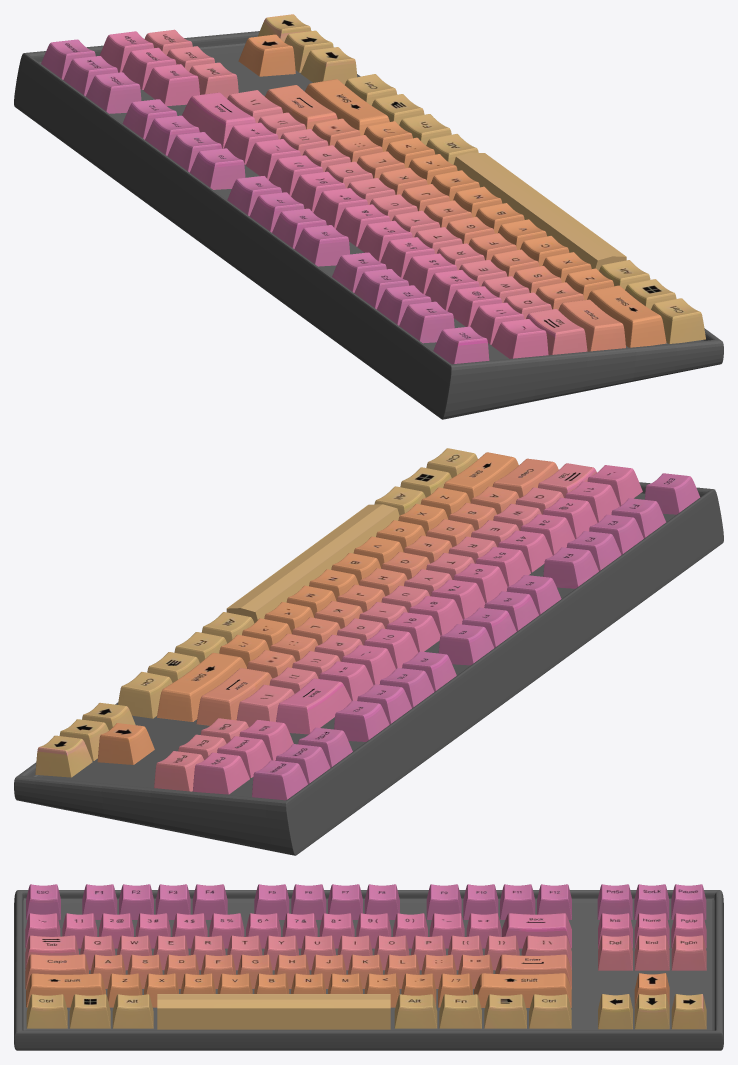
Rendered from tkl_keyboard_yellow_purple_grad-transformed.glb.
The picture shows the model from 3 angles, top to bottom: view 1: azimuth 30°, elevation 25°; view 2: azimuth 150°, elevation 25°; view 3: azimuth 270°, elevation 25°; orthographic projection. The views are drawn at different scales.
Visible parts, largest first — view 1: Keyboard Body; view 2: Keyboard Body; view 3: Keyboard Body.
Part boxes in pixels (box(x1,y1,x2,y2)): Keyboard Body: box(14, 14, 723, 419); Keyboard Body: box(14, 448, 723, 855); Keyboard Body: box(14, 884, 723, 1050).
Size of the model in its own units: 5.55 by 1.5 by 14.78.
2 materials, 1 textured.
